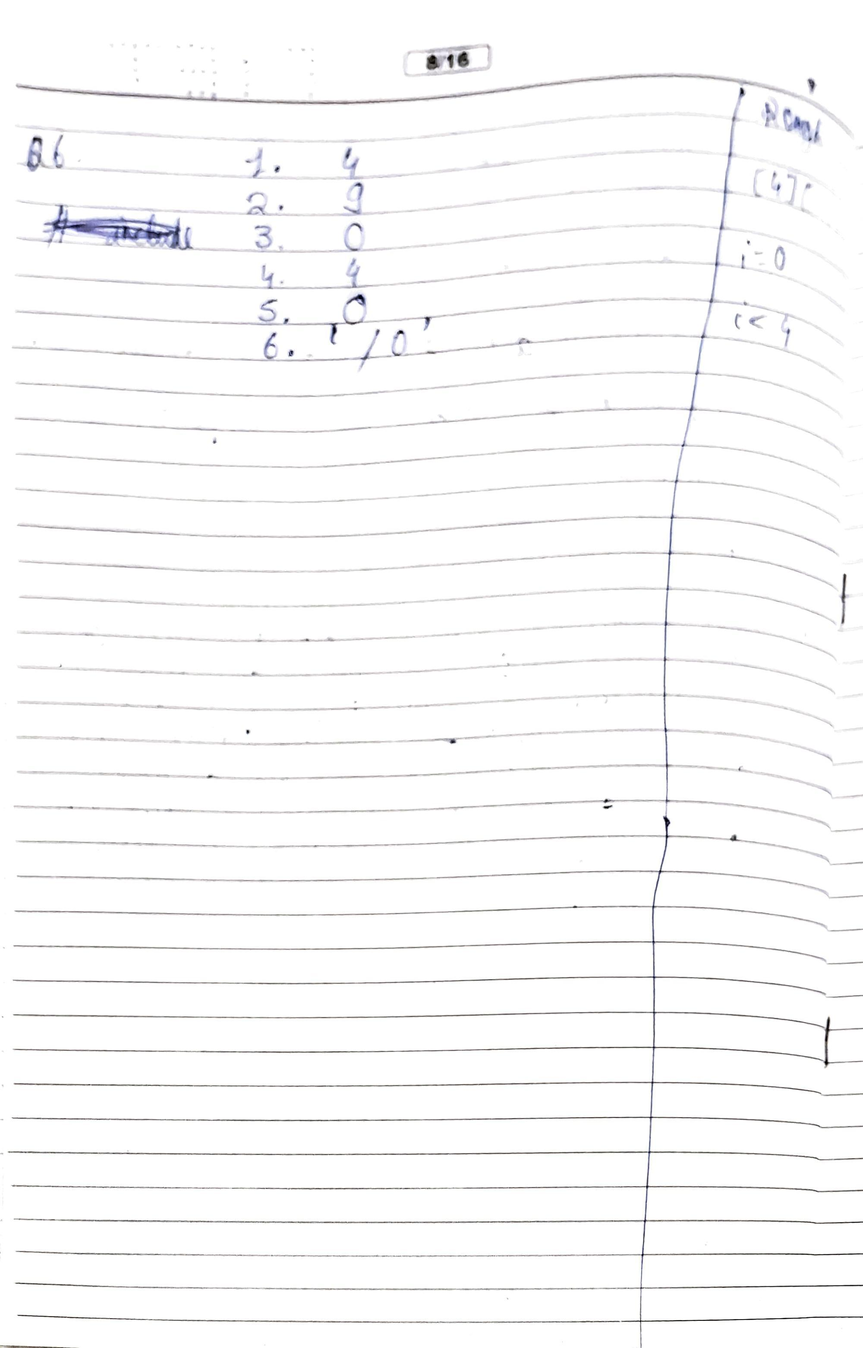cuttings: (31, 196, 205, 262)
